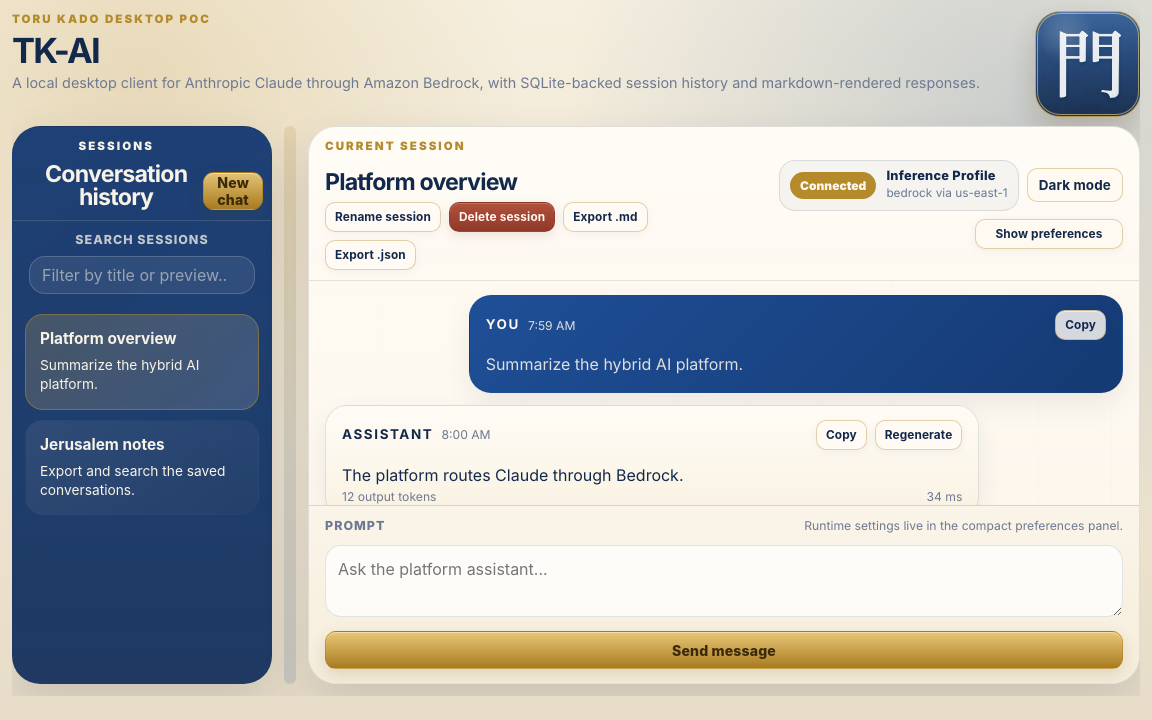
it: App layout behavior › exports the active session as markdown
Expected: the text "Connected" is shown, [790,172,876,199]
Step 1. Click the button "Export .md" → x=605, y=217, box [563,202,648,232]
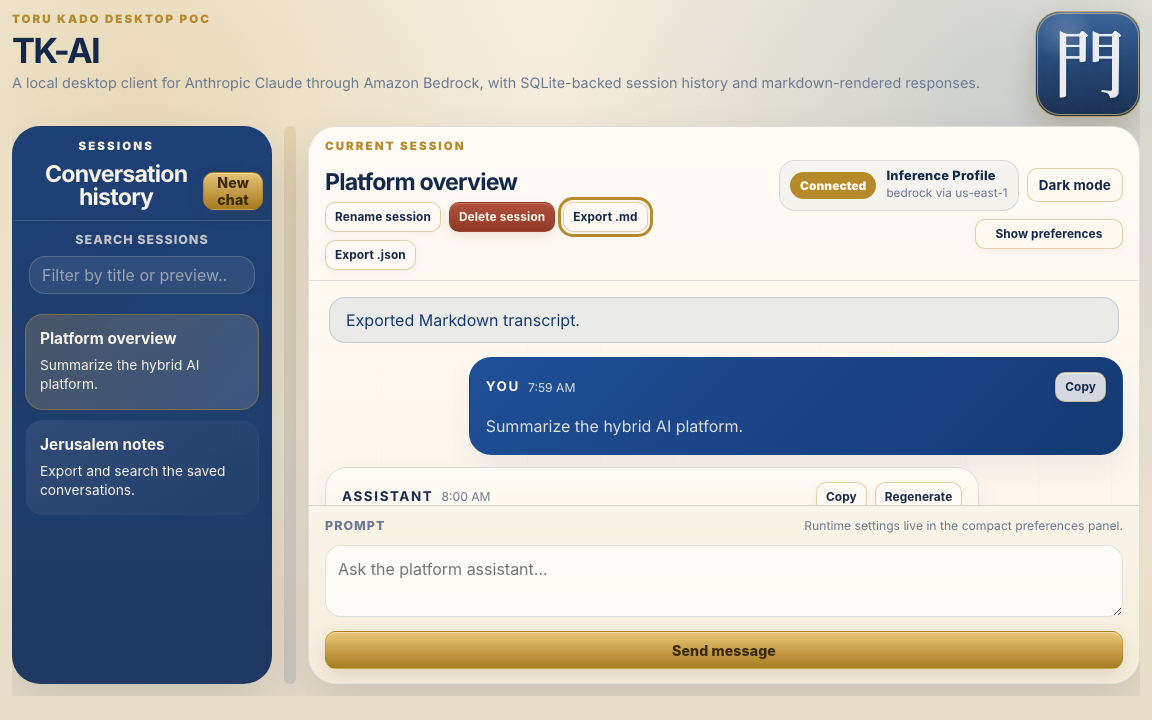
Expected: the text "Exported Markdown transcript." is shown, [329,297,1119,343]
